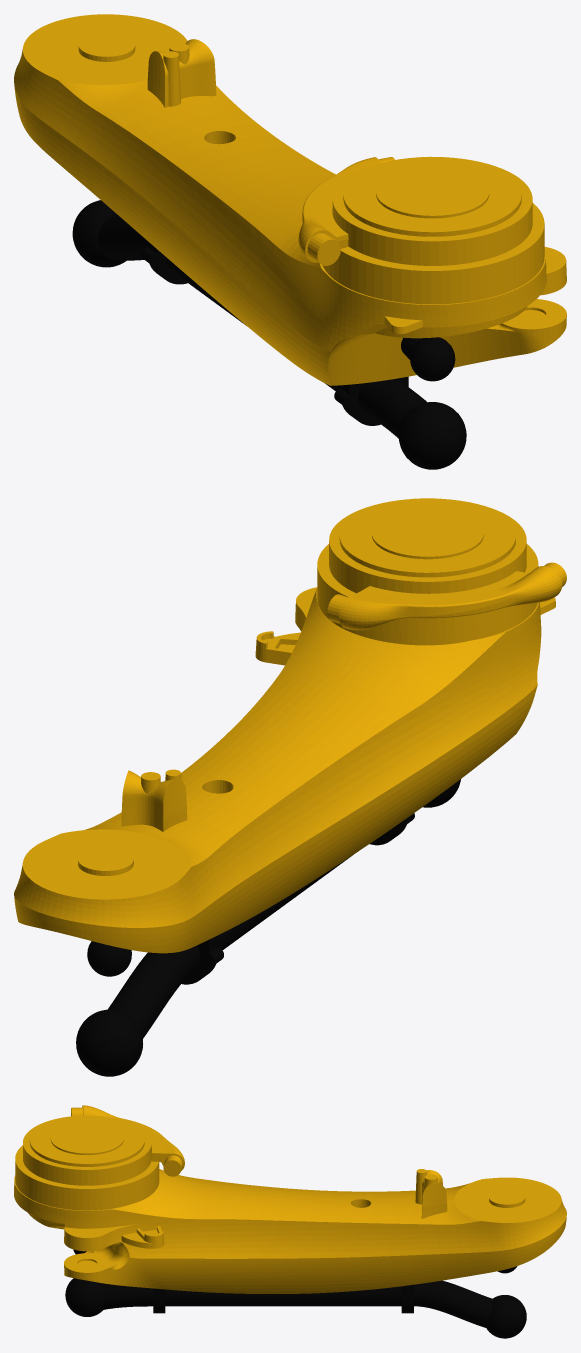
The picture shows the model from 3 angles, top to bottom: view 1: azimuth 30°, elevation 25°; view 2: azimuth 150°, elevation 25°; view 3: azimuth 270°, elevation 25°; orthographic projection. The views are drawn at different scales.
Parts seen in each view (by area): view 1: ShapeIndexedFaceSet_289, ShapeIndexedFaceSet_280, ShapeIndexedFaceSet_263, ShapeIndexedFaceSet_287, ShapeIndexedFaceSet_084, ShapeIndexedFaceSet_290, ShapeIndexedFaceSet_126, ShapeIndexedFaceSet_081, ShapeIndexedFaceSet_087, ShapeIndexedFaceSet_239, ShapeIndexedFaceSet_240, ShapeIndexedFaceSet_085 (+20 smaller); view 2: ShapeIndexedFaceSet_289, ShapeIndexedFaceSet_280, ShapeIndexedFaceSet_263, ShapeIndexedFaceSet_287, ShapeIndexedFaceSet_084, ShapeIndexedFaceSet_081, ShapeIndexedFaceSet_251, ShapeIndexedFaceSet_249, ShapeIndexedFaceSet_126, ShapeIndexedFaceSet_257, ShapeIndexedFaceSet_250, ShapeIndexedFaceSet_085 (+15 smaller); view 3: ShapeIndexedFaceSet_290, ShapeIndexedFaceSet_255, ShapeIndexedFaceSet_280, ShapeIndexedFaceSet_287, ShapeIndexedFaceSet_125, ShapeIndexedFaceSet_084, ShapeIndexedFaceSet_086, ShapeIndexedFaceSet_251, ShapeIndexedFaceSet_081, ShapeIndexedFaceSet_289, ShapeIndexedFaceSet_344, ShapeIndexedFaceSet_243 (+20 smaller).
Boxes of the visible parts, left/top/right/bottom form: ShapeIndexedFaceSet_289: left=14, top=49, right=333, bottom=350; ShapeIndexedFaceSet_280: left=97, top=82, right=335, bottom=244; ShapeIndexedFaceSet_263: left=26, top=108, right=330, bottom=385; ShapeIndexedFaceSet_287: left=23, top=14, right=187, bottom=85; ShapeIndexedFaceSet_084: left=343, top=156, right=521, bottom=232; ShapeIndexedFaceSet_290: left=327, top=260, right=546, bottom=351; ShapeIndexedFaceSet_126: left=322, top=251, right=488, bottom=304; ShapeIndexedFaceSet_081: left=376, top=168, right=489, bottom=215; ShapeIndexedFaceSet_087: left=332, top=201, right=482, bottom=265; ShapeIndexedFaceSet_239: left=387, top=328, right=524, bottom=379; ShapeIndexedFaceSet_240: left=328, top=333, right=391, bottom=385; ShapeIndexedFaceSet_085: left=332, top=157, right=532, bottom=241; ShapeIndexedFaceSet_289: left=14, top=622, right=534, bottom=927; ShapeIndexedFaceSet_280: left=99, top=675, right=414, bottom=853; ShapeIndexedFaceSet_263: left=180, top=689, right=533, bottom=951; ShapeIndexedFaceSet_287: left=22, top=829, right=191, bottom=899; ShapeIndexedFaceSet_084: left=339, top=498, right=515, bottom=572; ShapeIndexedFaceSet_081: left=372, top=509, right=483, bottom=556; ShapeIndexedFaceSet_251: left=279, top=595, right=375, bottom=681; ShapeIndexedFaceSet_249: left=377, top=638, right=484, bottom=708; ShapeIndexedFaceSet_126: left=372, top=566, right=538, bottom=645; ShapeIndexedFaceSet_257: left=14, top=896, right=185, bottom=953; ShapeIndexedFaceSet_250: left=342, top=640, right=416, bottom=694; ShapeIndexedFaceSet_085: left=329, top=499, right=526, bottom=581; ShapeIndexedFaceSet_290: left=14, top=1182, right=506, bottom=1258; ShapeIndexedFaceSet_255: left=139, top=1250, right=507, bottom=1293; ShapeIndexedFaceSet_280: left=198, top=1178, right=452, bottom=1224; ShapeIndexedFaceSet_287: left=454, top=1177, right=561, bottom=1222; ShapeIndexedFaceSet_125: left=15, top=1161, right=159, bottom=1210; ShapeIndexedFaceSet_084: left=29, top=1115, right=144, bottom=1163; ShapeIndexedFaceSet_086: left=23, top=1145, right=151, bottom=1185; ShapeIndexedFaceSet_251: left=120, top=1180, right=203, bottom=1219; ShapeIndexedFaceSet_081: left=51, top=1122, right=123, bottom=1153; ShapeIndexedFaceSet_289: left=502, top=1199, right=566, bottom=1249; ShapeIndexedFaceSet_344: left=165, top=1289, right=243, bottom=1306; ShapeIndexedFaceSet_243: left=104, top=1259, right=161, bottom=1289.
Bounding box in the file's own units: 0.5324 × 1.51 × 0.6019.
